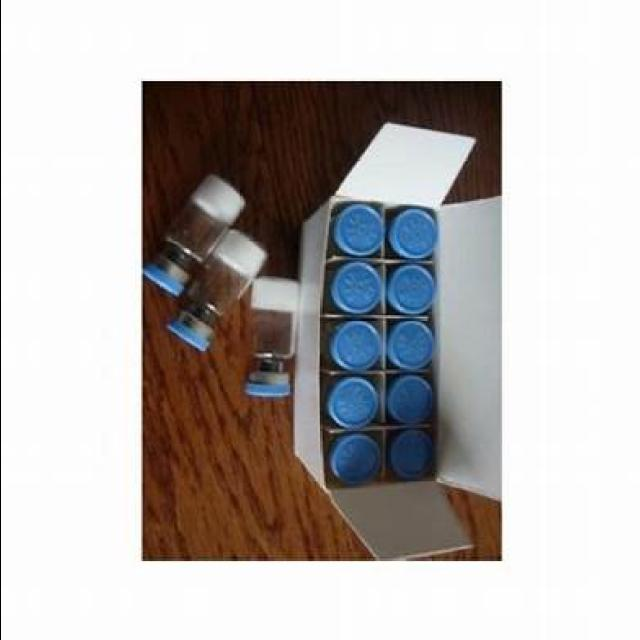vial: (381, 314, 437, 378), (328, 203, 384, 267), (384, 258, 441, 314), (324, 373, 378, 431), (328, 430, 382, 487), (320, 318, 374, 372), (328, 260, 382, 312), (382, 374, 434, 426), (382, 429, 432, 481), (388, 206, 432, 262), (243, 366, 287, 410), (147, 248, 180, 298), (175, 316, 209, 362)
